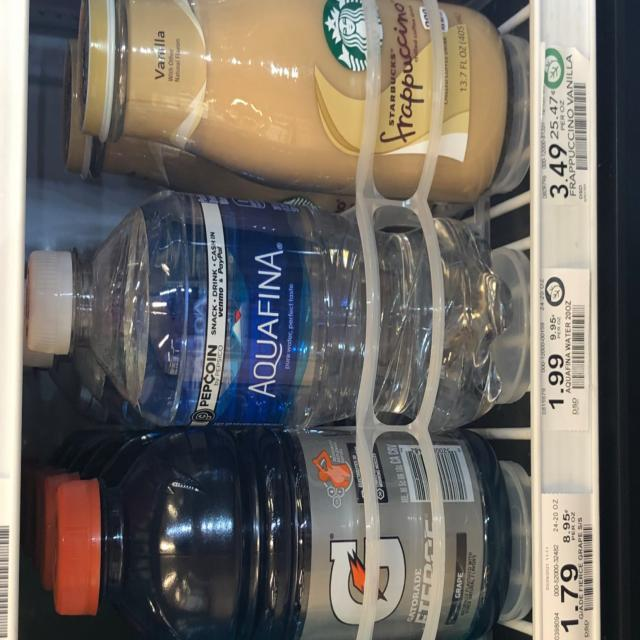plastic: (11, 188, 532, 436)
